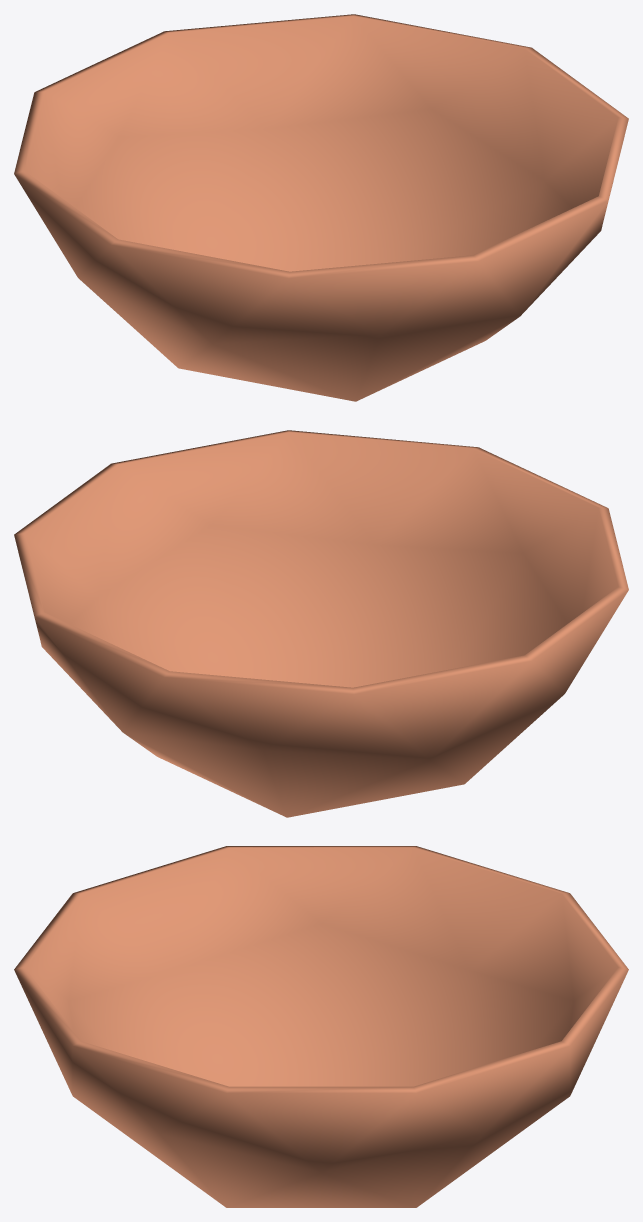
File: dish-type-03.obj
The picture shows the model from 3 angles, top to bottom: view 1: azimuth 30°, elevation 25°; view 2: azimuth 150°, elevation 25°; view 3: azimuth 270°, elevation 25°; orthographic projection. The views are drawn at different scales.
Visible parts, largest first — view 1: dish-type-03; view 2: dish-type-03; view 3: dish-type-03.
Boxes of the visible parts, <box> form: dish-type-03: <box>14,14,628,401</box>; dish-type-03: <box>14,430,628,817</box>; dish-type-03: <box>14,846,628,1207</box>.
Bounding box in the file's own units: 0.0807 × 0.0319 × 0.0848.
